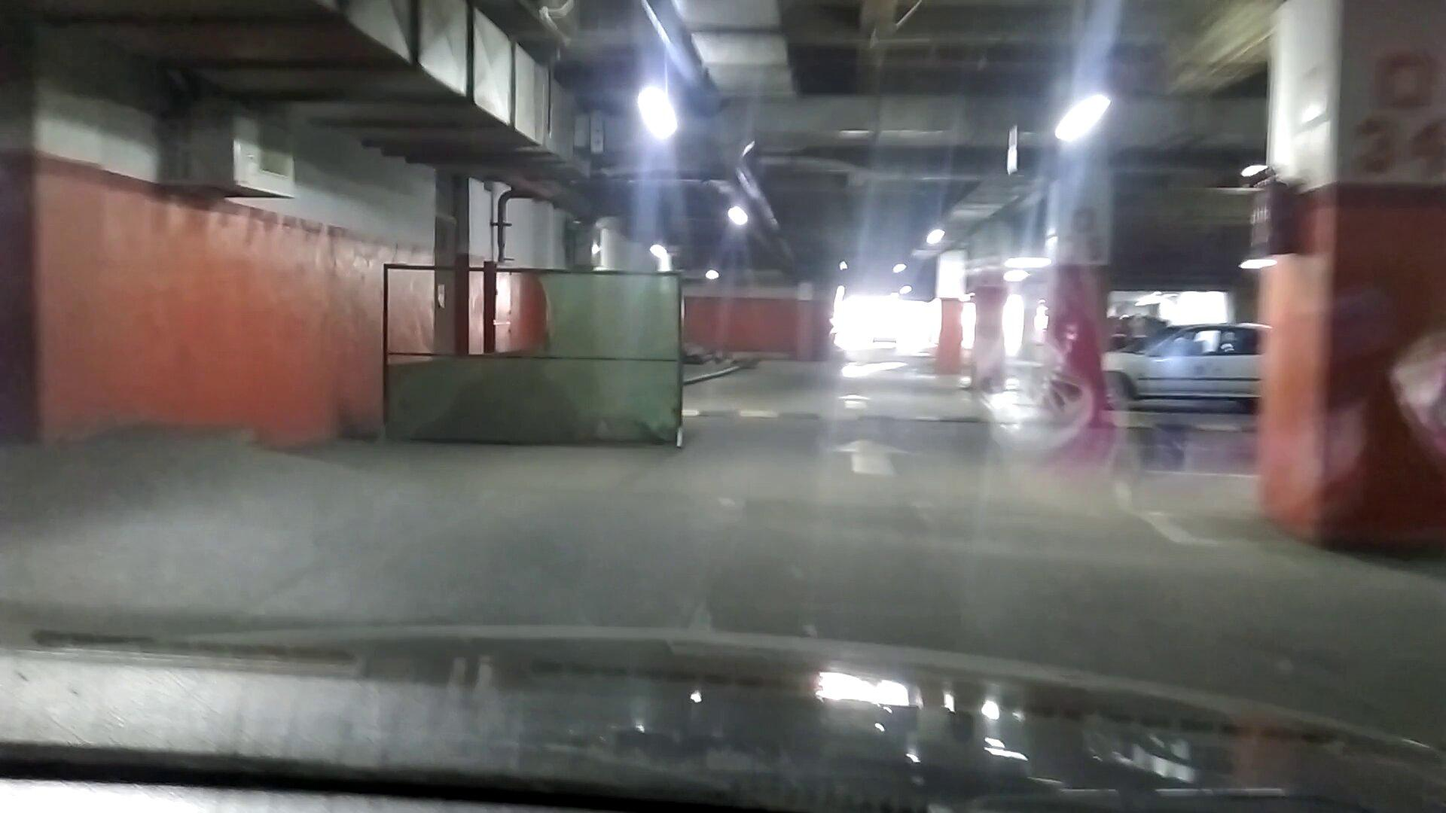Bump: (689, 406, 1002, 427)
